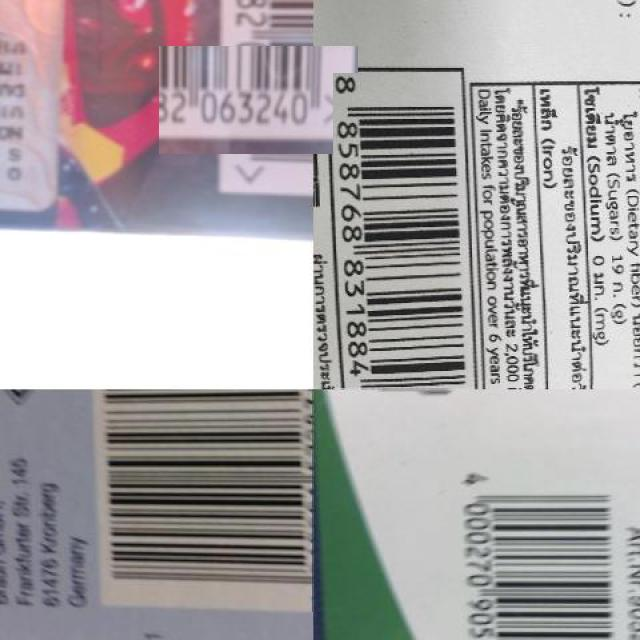Barcode: (94, 389, 314, 612), (333, 73, 468, 390), (447, 464, 625, 640), (181, 23, 336, 176)
